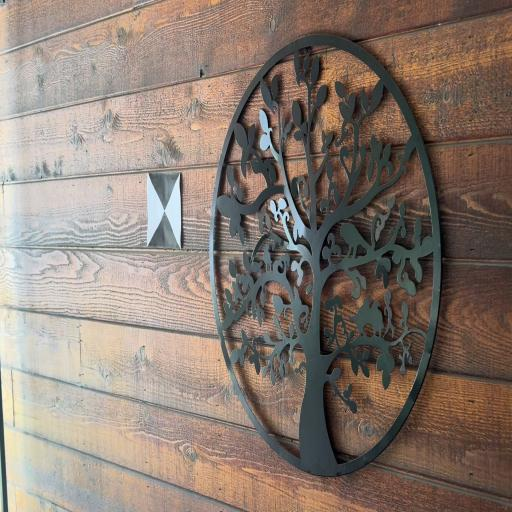target: (147, 174, 181, 249)
